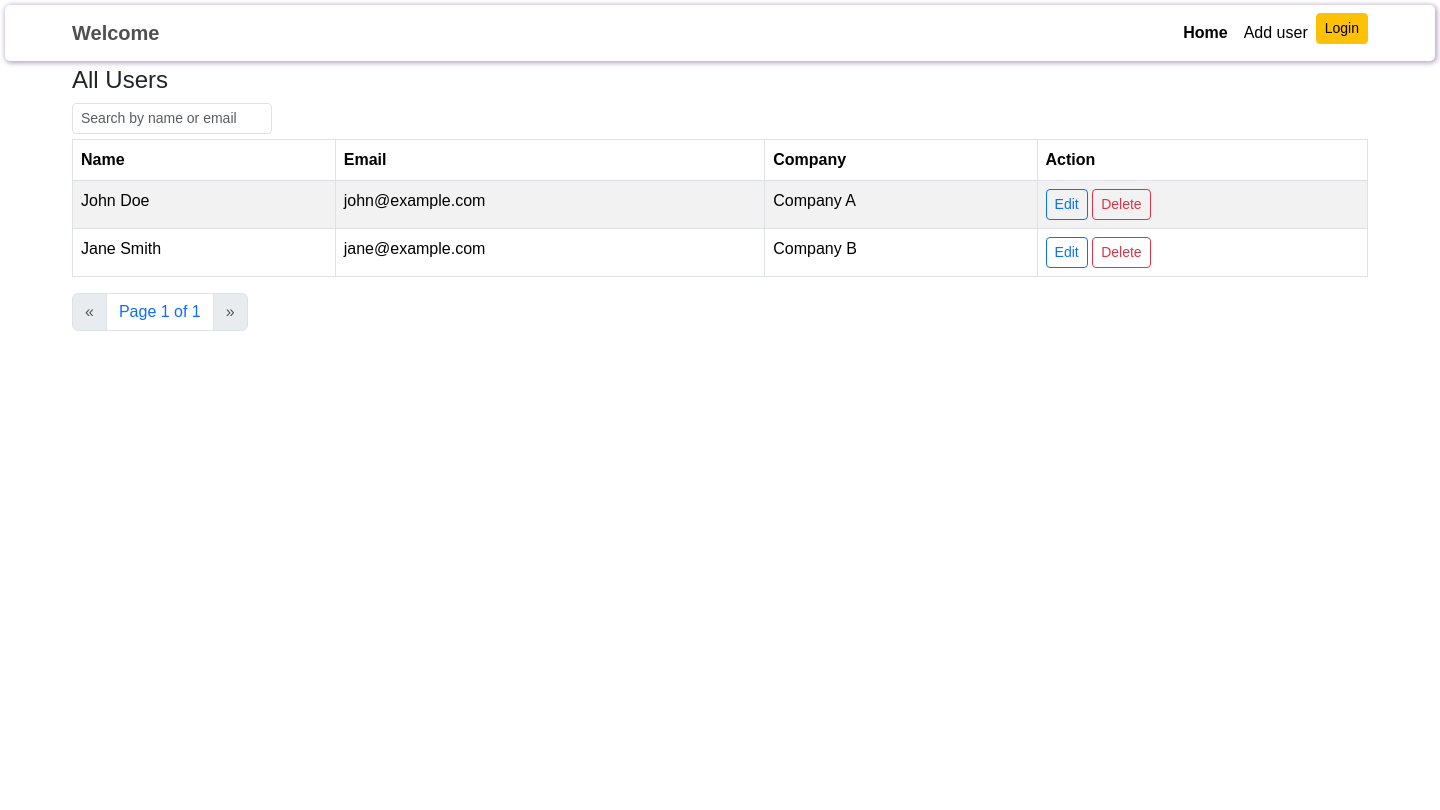
Users Component › opens and closes delete modal
Click the button "Delete" in the row of "John Doe".
click(1121, 204)  # box [1092, 189, 1151, 220]
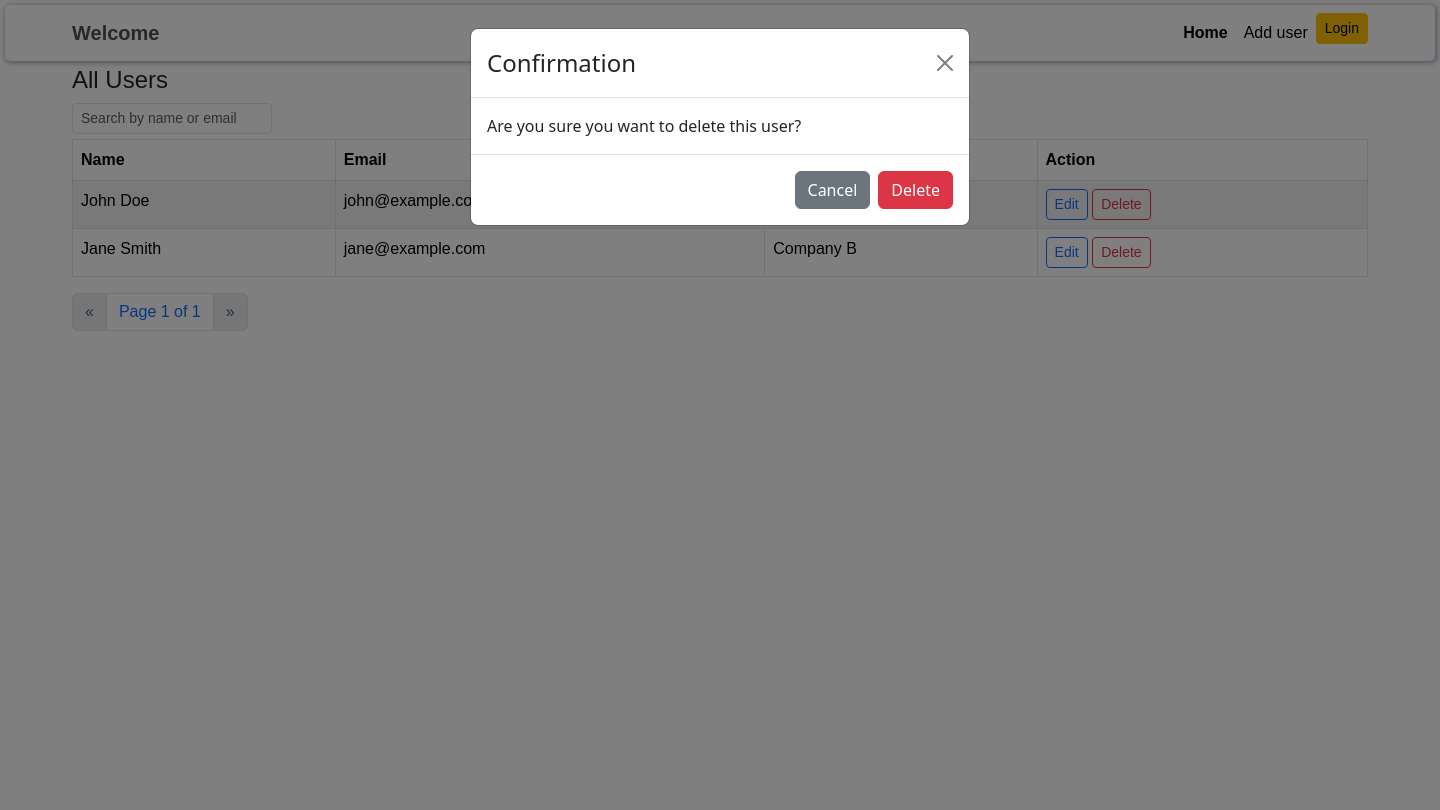
Now the text "Are you sure you want to delete this user?" is shown, box [487, 115, 801, 137]
Click the button "Cancel".
click(832, 190)  # box [794, 171, 870, 209]
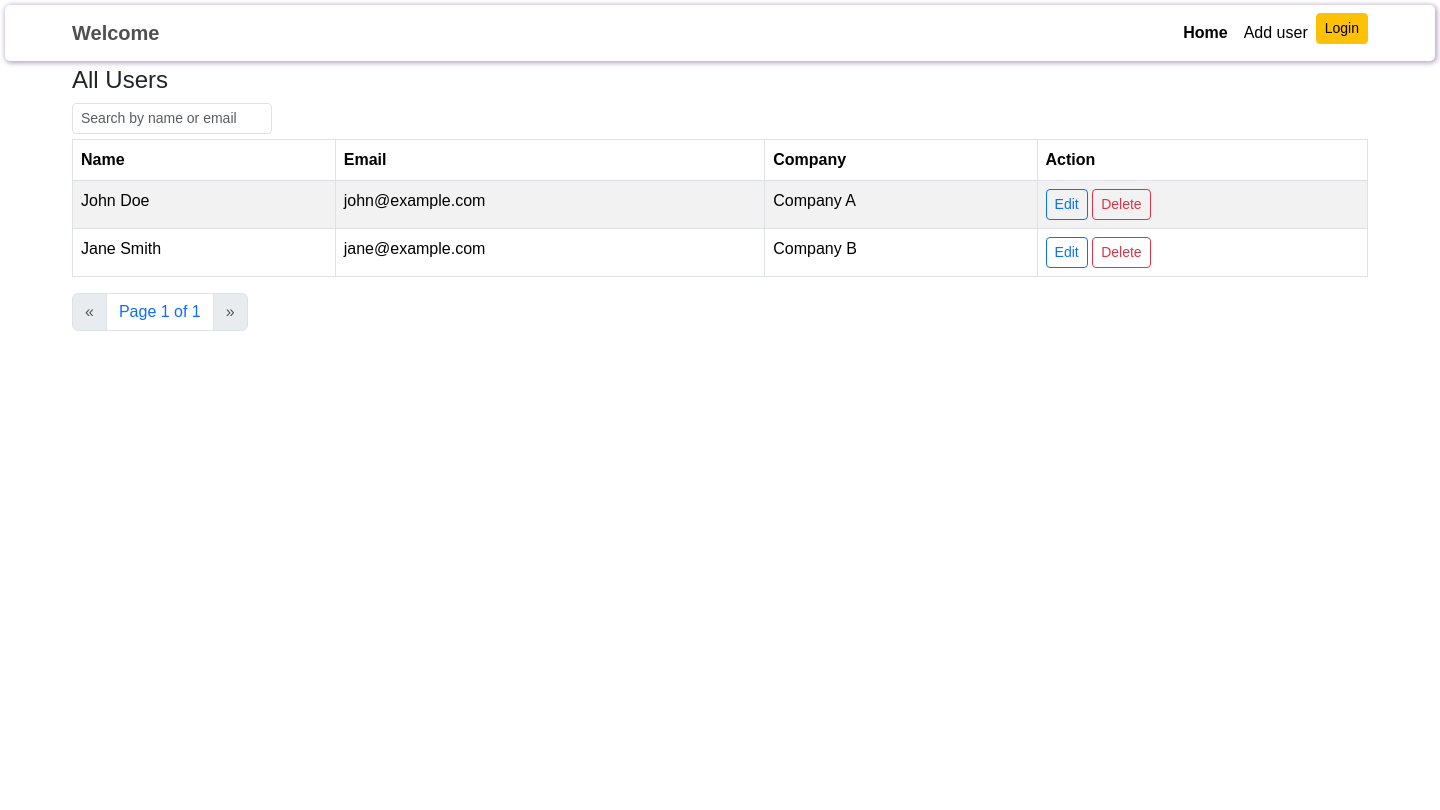
Now the text "Are you sure you want to delete this user?" is gone
